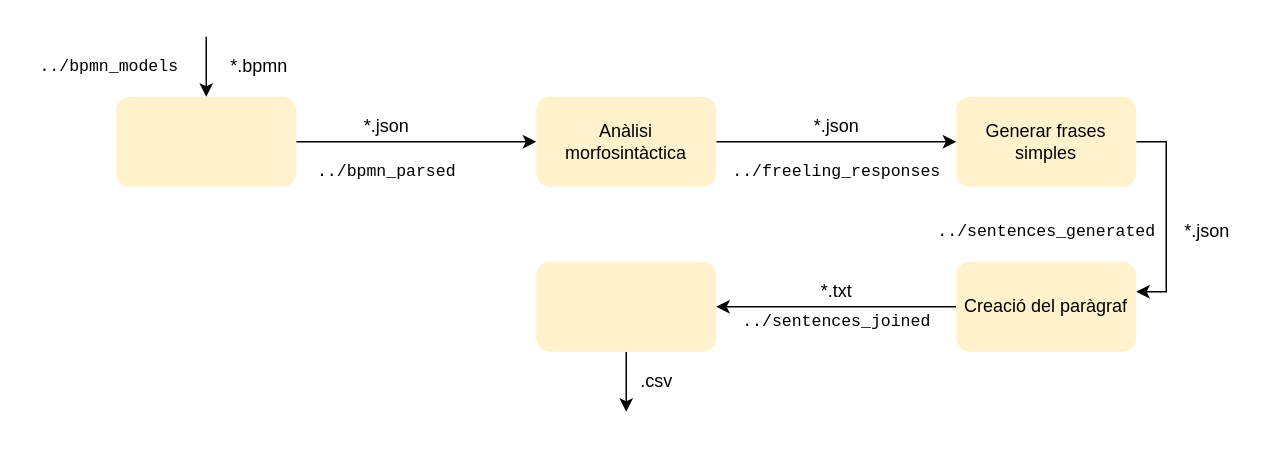
This 1262x450 diagram has some shape labels left out. Here are the shapes that lost their labels. From the top down, the centre of each, then its label:
the point at 206,141: Llegir BPMN
the point at 626,306: Generar dataset
